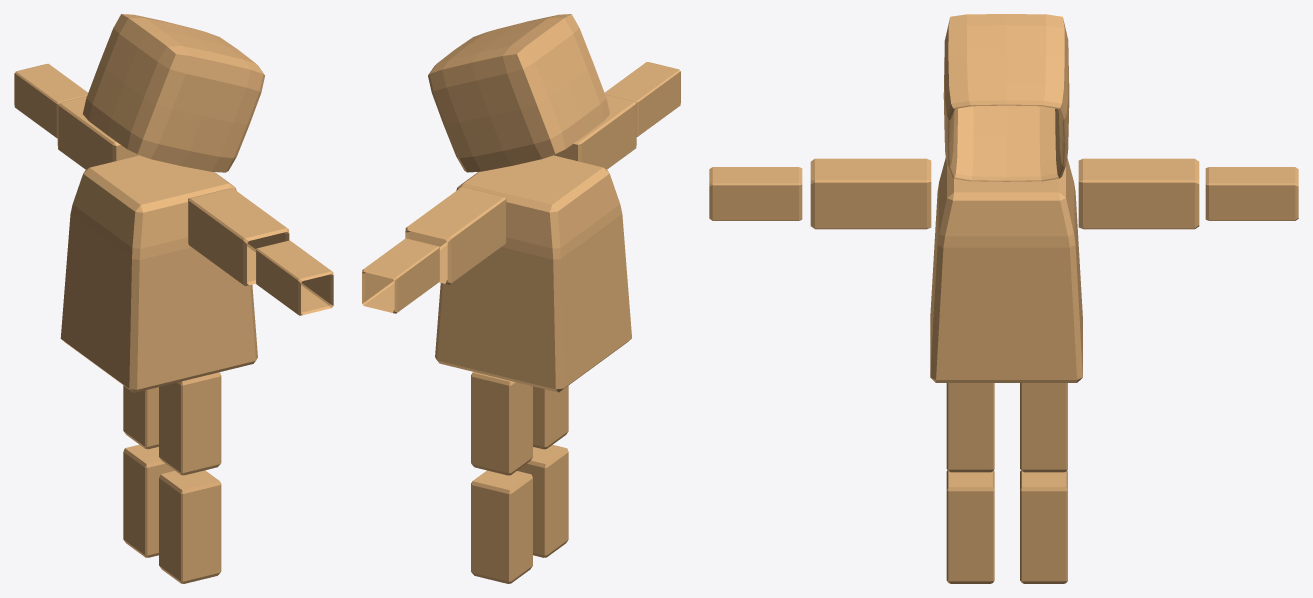
Rendered from CardboardMan.fbx.
The picture shows the model from 3 angles, left to right: view 1: azimuth 30°, elevation 25°; view 2: azimuth 150°, elevation 25°; view 3: azimuth 270°, elevation 25°; orthographic projection. The views are drawn at different scales.
Visible parts, largest first — view 1: Cube.001, Cube, Cube.007, Cube.002, Cube.004, Cube.008, Cube.006, Cube.009, Cube.003, Cube.005; view 2: Cube.001, Cube, Cube.006, Cube.003, Cube.005, Cube.009, Cube.007, Cube.002, Cube.008, Cube.004; view 3: Cube.001, Cube, Cube.003, Cube.002, Cube.007, Cube.006, Cube.008, Cube.009, Cube.004, Cube.005.
Part boxes in pixels (x1,y1,x2,y2): Cube.001: (60, 155, 257, 392); Cube: (83, 14, 264, 172); Cube.007: (159, 470, 221, 583); Cube.002: (188, 188, 289, 285); Cube.004: (159, 372, 221, 475); Cube.008: (256, 240, 333, 315); Cube.006: (123, 444, 174, 557); Cube.009: (14, 63, 87, 138); Cube.003: (57, 96, 138, 169); Cube.005: (123, 385, 158, 449); Cube.001: (435, 155, 631, 392); Cube: (428, 14, 609, 172); Cube.006: (471, 470, 532, 583); Cube.003: (405, 186, 506, 284); Cube.005: (471, 372, 532, 475); Cube.009: (362, 238, 439, 313); Cube.007: (517, 445, 568, 557); Cube.002: (554, 94, 636, 169); Cube.008: (604, 62, 680, 136); Cube.004: (533, 385, 568, 449); Cube.001: (930, 157, 1082, 382); Cube: (943, 14, 1069, 181); Cube.003: (1078, 158, 1199, 229); Cube.002: (810, 158, 931, 229); Cube.007: (946, 470, 994, 583); Cube.006: (1020, 470, 1067, 583); Cube.008: (709, 167, 802, 220); Cube.009: (1205, 167, 1298, 220); Cube.004: (946, 383, 994, 472); Cube.005: (1020, 383, 1067, 472).
Size of the model in its own units: 402 by 1401 by 1365.
